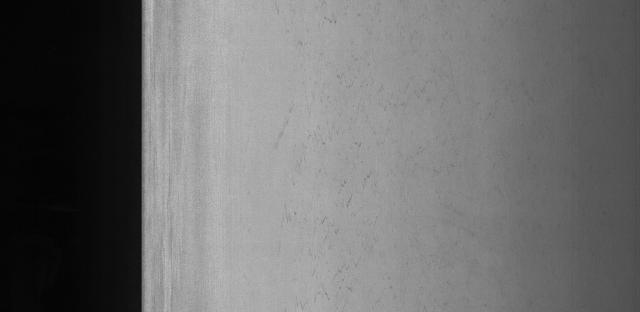silk_spot: (259, 17, 437, 270)
